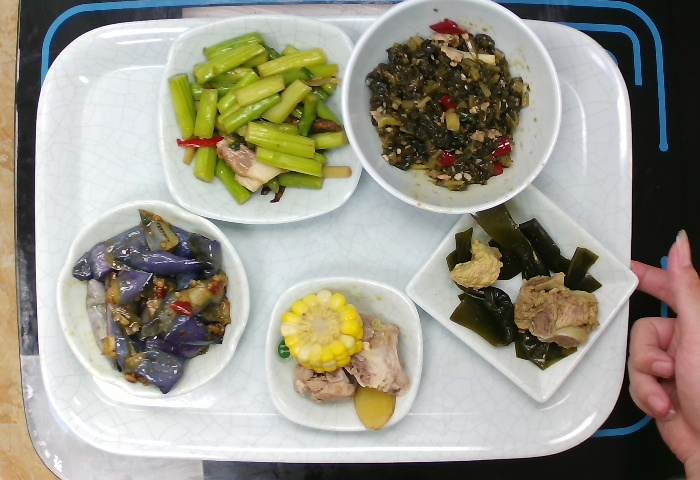JYsf-Ao_Yuan_Wan: (55, 198, 250, 399)
JYsf-Fan_Wan: (338, 1, 562, 216)
JYsf-Si_Fang_Die: (263, 275, 425, 435)
WCQzf-Da_Si_Fang_Die: (157, 12, 363, 227)
WCQzf-Ru_Ci_Si_Fang_Die: (404, 178, 641, 404)
